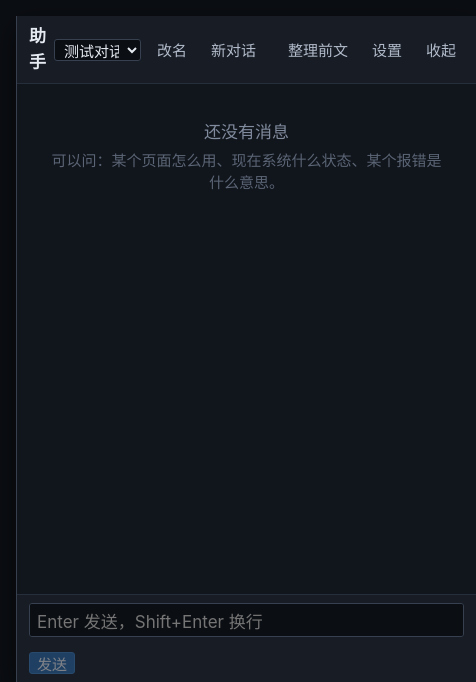
Test: 发送流程 › 发送失败：后端错误体里的 detail 与 hint 原样展示
The image size is (476, 682).
Type "帮我看看" into the text box with placeholder "Enter 发送，Shift+Enter 换行" at (246, 620), box [29, 602, 464, 636]
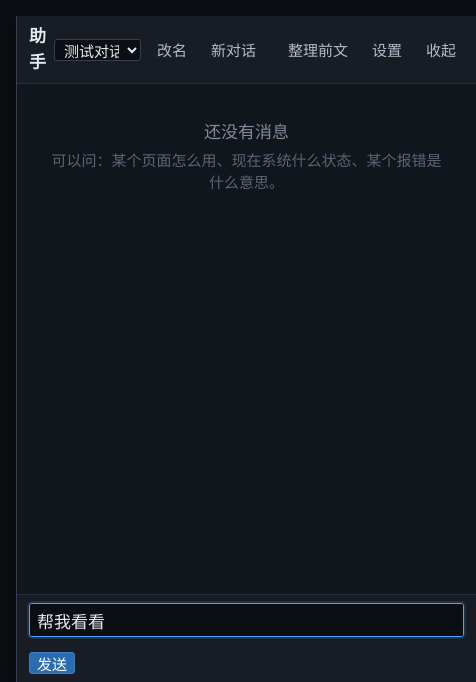
Click the button "发送" at (52, 663), box [29, 652, 75, 674]
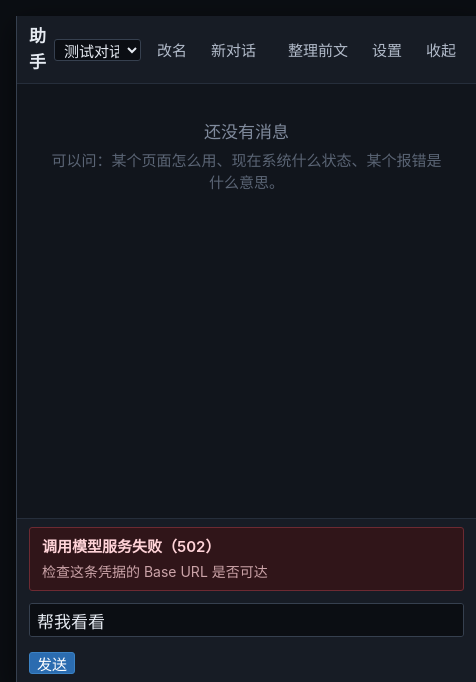
Now the text "调用模型服务失败（502）" is shown, box [42, 537, 220, 556]
Now the text "检查这条凭据的 Base URL 是否可达" is shown, box [42, 562, 268, 580]
